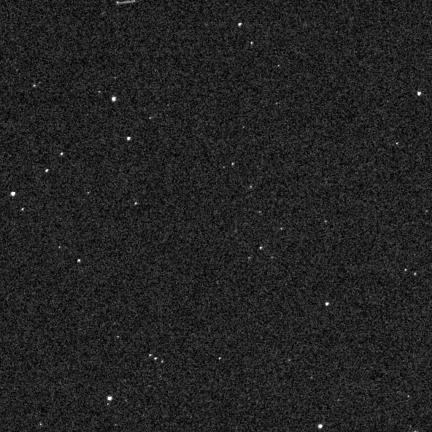blob: (107, 396, 114, 402), (11, 192, 15, 196), (417, 92, 421, 96), (112, 97, 116, 101), (232, 162, 235, 167), (78, 259, 81, 264), (135, 202, 138, 206), (46, 169, 49, 173), (127, 137, 131, 140), (22, 208, 25, 212), (61, 152, 64, 156), (326, 302, 329, 306), (238, 23, 242, 26)
